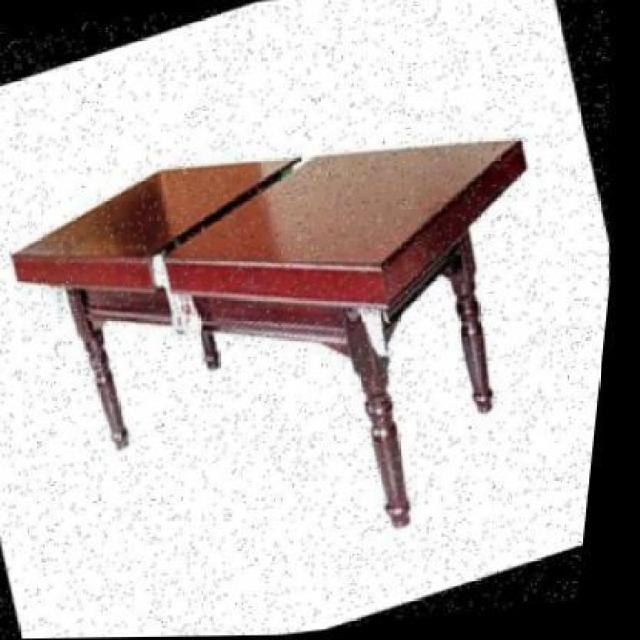tables: (9, 135, 528, 528)
